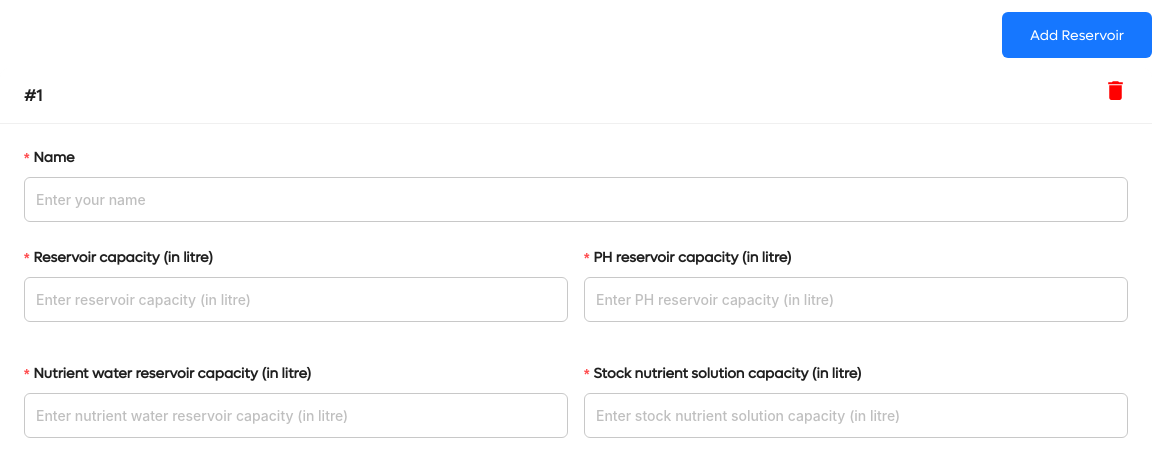
Test: AddReservoirs component › should apply regex validation errors
The width and height of the screenshot is (1164, 455).
Type "abc" into the field labelled "Reservoir capacity (in litre)". click: {"x": 296, "y": 300}
box: [24,277,568,322]
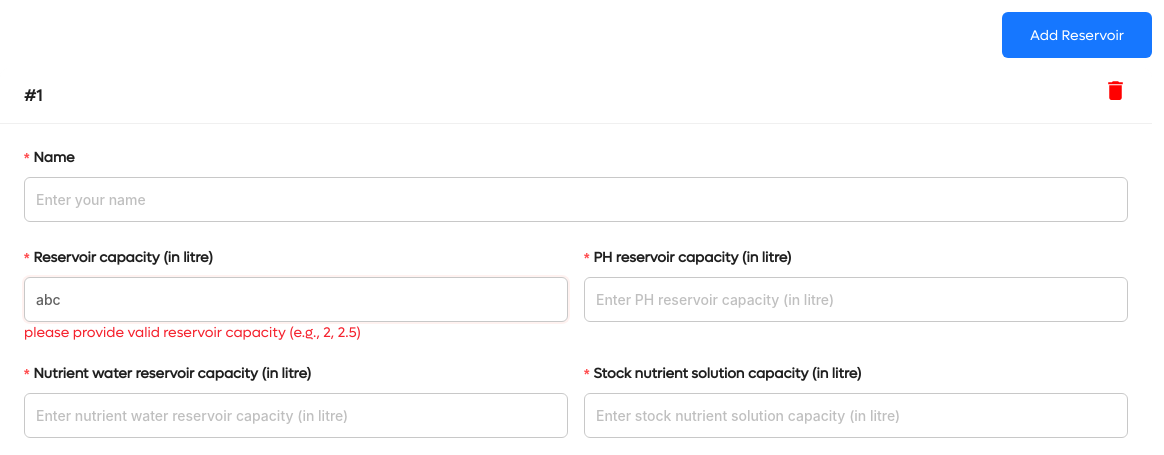
Type "xyz" into the field labelled "PH reservoir capacity (in litre)". click: {"x": 856, "y": 300}
box: [584,277,1128,322]
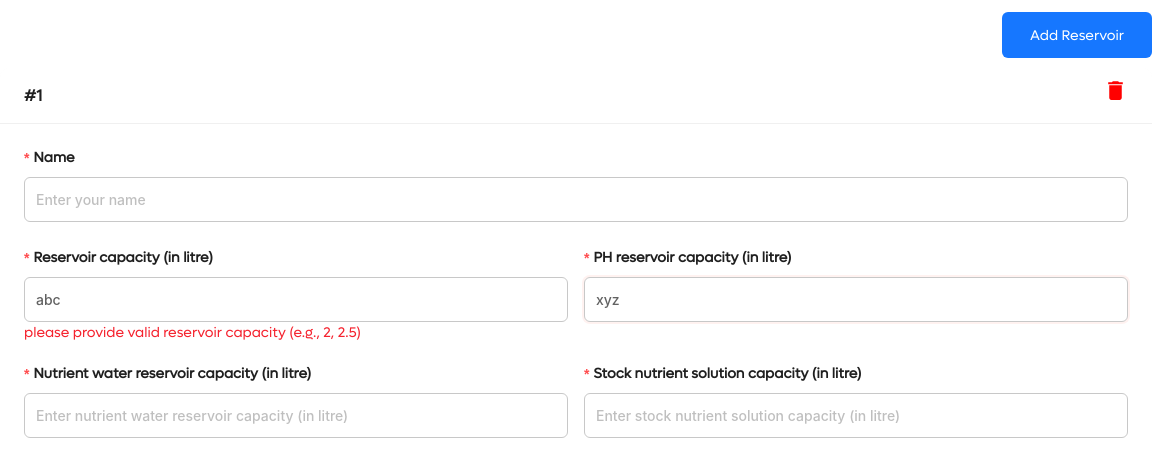
Type "1:xyz" into the field labelled "Nutrient water reservoir capacity (in litre)". click: {"x": 296, "y": 416}
box: [24,393,568,438]
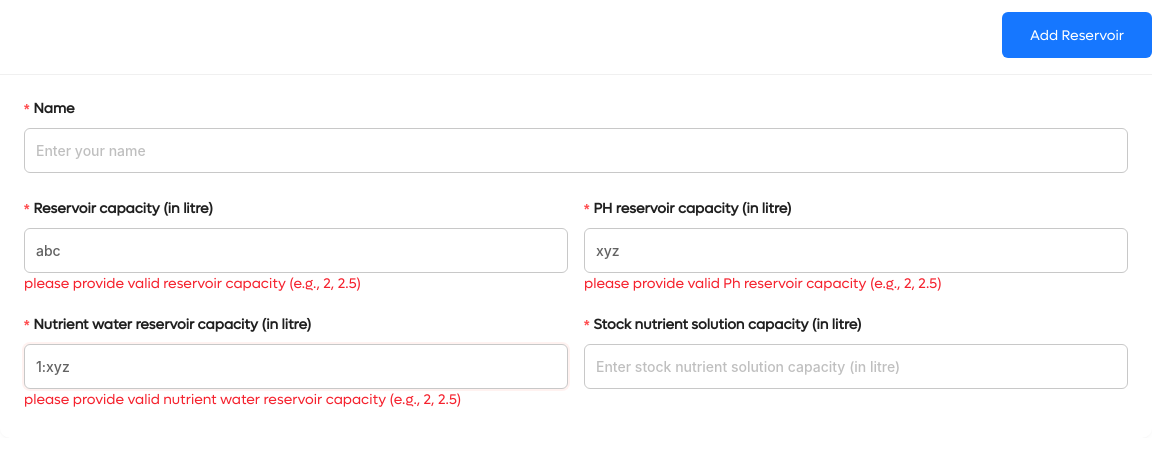
Check: the text "please provide valid reservoir capacity (e.g., 2, 2.5)" is shown, box [24,274,361,293]
Check: the text "please provide valid Ph reservoir capacity (e.g., 2, 2.5)" is shown, box [584,274,942,293]
Check: the text "please provide valid nutrient water reservoir capacity (e.g., 2, 2.5)" is shown, box [24,390,461,409]
